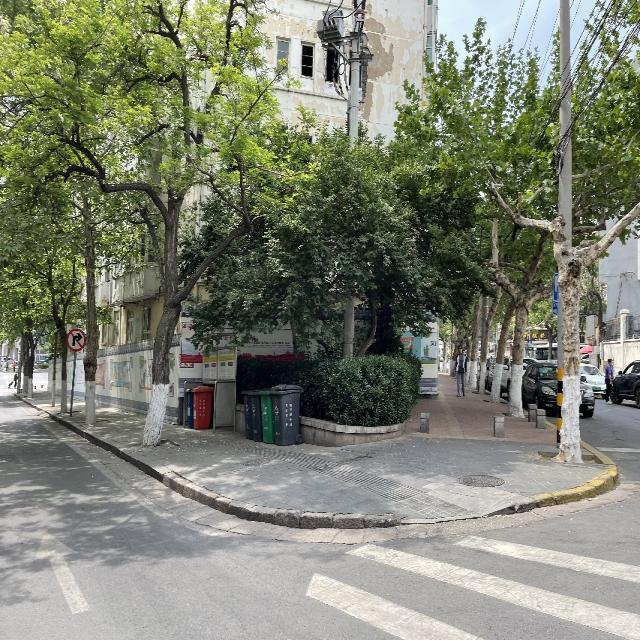garbage_bin: (270, 384, 303, 444), (190, 385, 212, 429), (256, 389, 273, 443), (246, 390, 262, 441), (240, 389, 252, 439), (185, 388, 192, 427)
